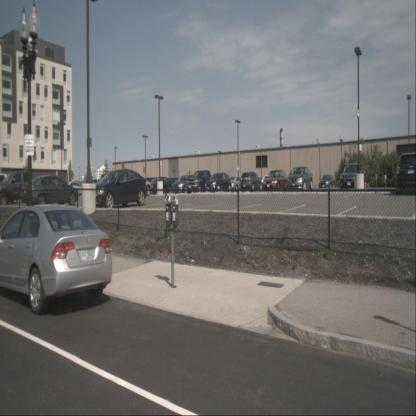vehicle-car: (0, 204, 113, 315), (91, 169, 148, 210), (21, 175, 78, 208), (396, 152, 416, 195), (121, 173, 153, 197), (286, 166, 313, 192), (340, 164, 364, 192), (204, 172, 232, 193), (172, 174, 202, 193), (262, 170, 289, 191), (240, 172, 263, 192), (149, 176, 174, 193), (64, 180, 85, 196), (226, 176, 248, 191), (318, 174, 335, 189)
vehicle-truck: (0, 172, 50, 206), (186, 170, 221, 194)
